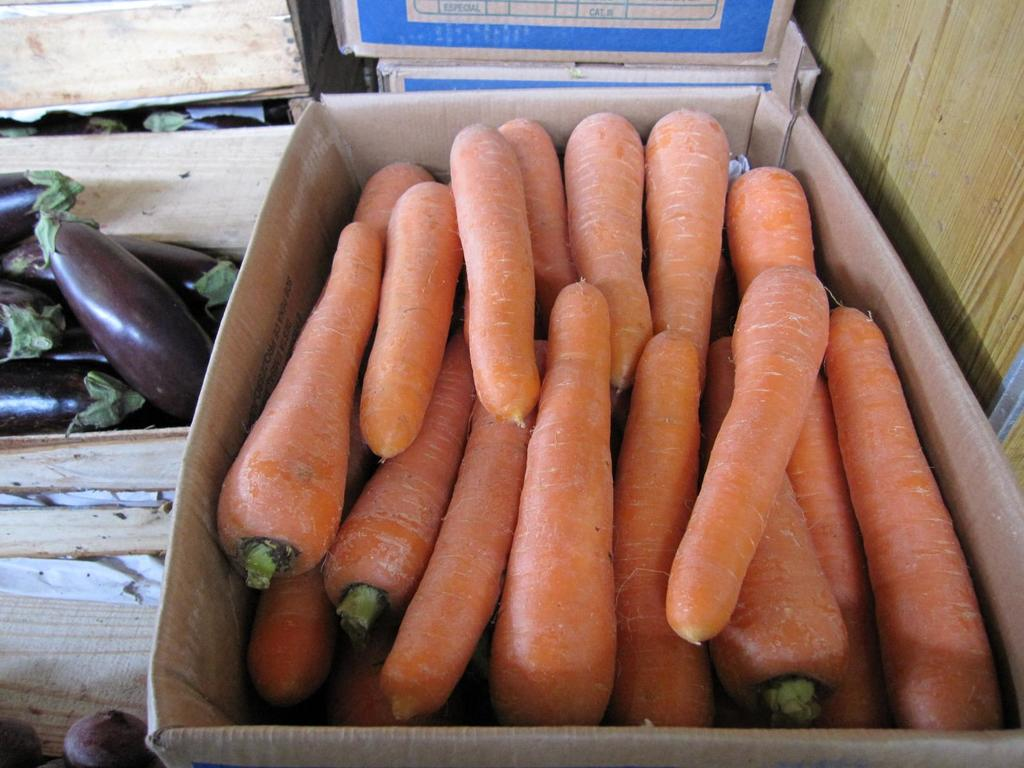Carrot: (217, 108, 1004, 727)
